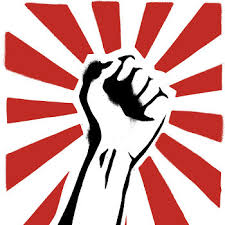fist: (88, 57, 160, 155)
